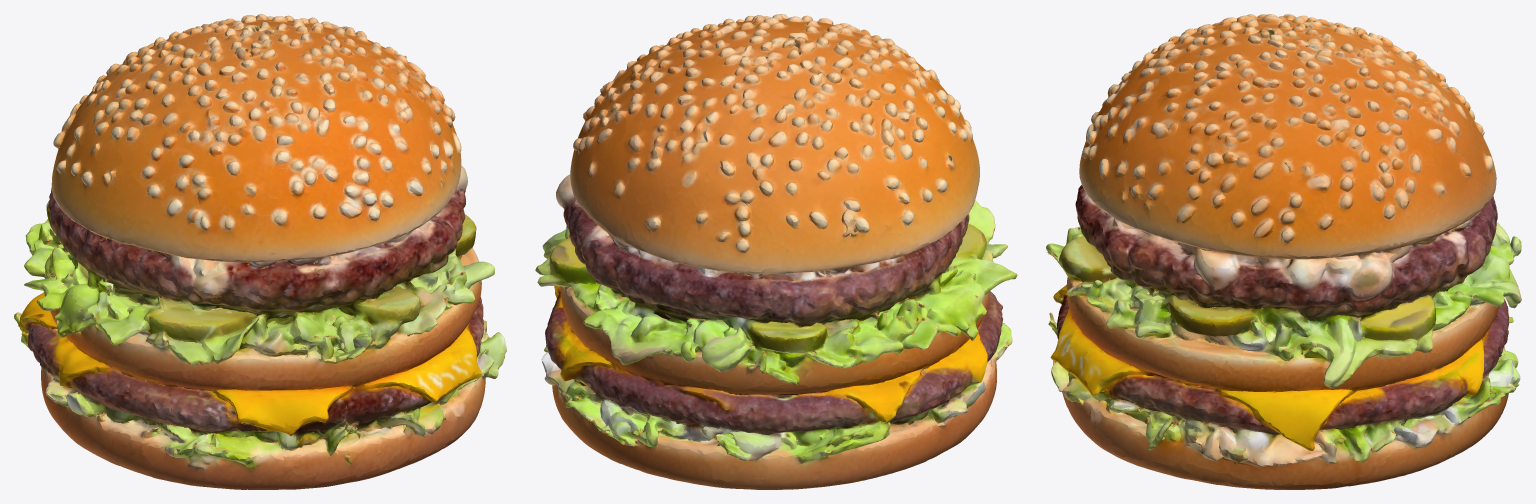
File: burger-0.glb
3 renders of one model, left to right at view 1: azimuth 30°, elevation 25°; view 2: azimuth 150°, elevation 25°; view 3: azimuth 270°, elevation 25°, orthographic.
Visible parts, largest first — view 1: geometry_0; view 2: geometry_0; view 3: geometry_0.
Part boxes in pixels (x1,y1,x2,y2): geometry_0: [14, 14, 506, 489]; geometry_0: [535, 14, 1017, 489]; geometry_0: [1046, 14, 1521, 489].
Size of the model in its own units: 0.1504 by 0.125 by 0.1501.
1 material, 1 textured.
